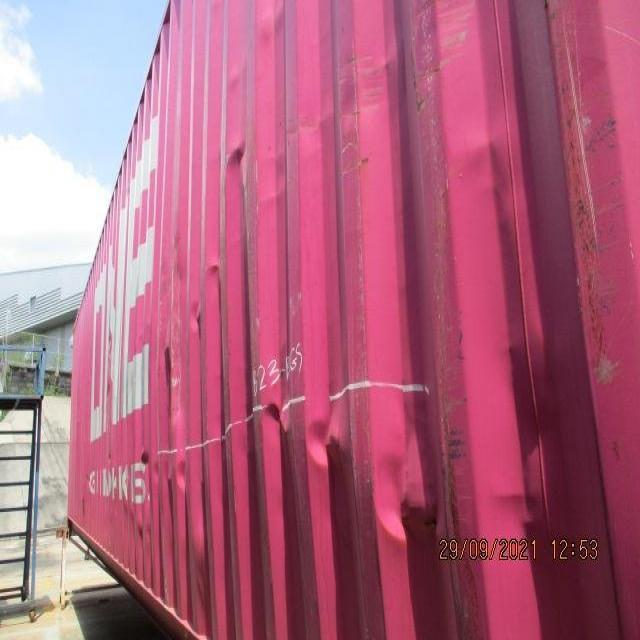Dent: (253, 378, 452, 574)
Minor-Dent: (157, 441, 220, 640), (184, 234, 230, 350)
